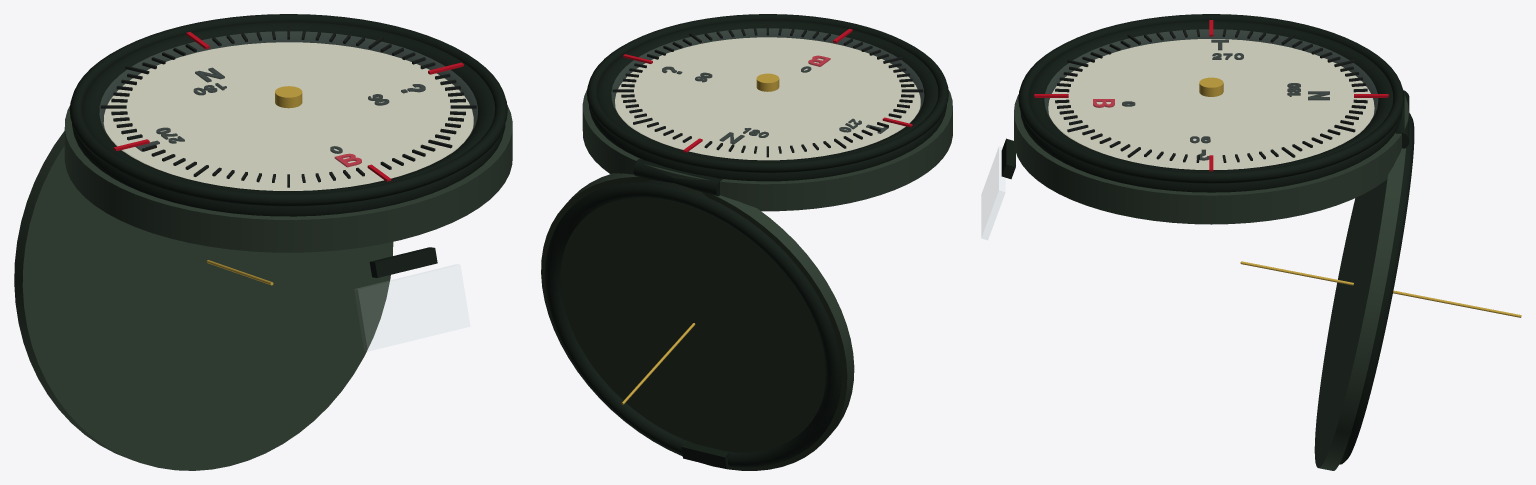
File: 04_gdqp_la_ban.glb
The picture shows the model from 3 angles, left to right: view 1: azimuth 30°, elevation 25°; view 2: azimuth 150°, elevation 25°; view 3: azimuth 270°, elevation 25°; orthographic projection. The views are drawn at different scales.
Visible parts, largest first — view 1: Nap_Kim_Loai, Lop_Kinh, Mat_Dia_Ban, Vo_Duoi, Vanh_Ngoai, Vanh_Xoay, Mat_Kinh_Phong_Dai, Khe_Ngam, Truc_Kim; view 2: Nap_Kim_Loai, Lop_Kinh, Mat_Dia_Ban, Vien_Nap, Vanh_Ngoai, Vo_Duoi, Vanh_Xoay, Truc_Nap, Cua_Ngam; view 3: Lop_Kinh, Mat_Dia_Ban, Vo_Duoi, Vanh_Ngoai, Nap_Kim_Loai, Vanh_Xoay, Vien_Nap, Mat_Kinh_Phong_Dai, Day_Ngam.
Boxes of the visible parts, x1,y1,x2,y2 form: Nap_Kim_Loai: [14, 131, 393, 470]; Lop_Kinh: [100, 32, 477, 190]; Mat_Dia_Ban: [103, 42, 473, 190]; Vo_Duoi: [64, 105, 512, 252]; Vanh_Ngoai: [72, 21, 505, 216]; Vanh_Xoay: [69, 14, 507, 206]; Mat_Kinh_Phong_Dai: [355, 264, 469, 350]; Khe_Ngam: [369, 247, 437, 277]; Truc_Kim: [275, 86, 302, 108]; Nap_Kim_Loai: [541, 173, 854, 470]; Lop_Kinh: [612, 29, 923, 159]; Mat_Dia_Ban: [615, 37, 920, 160]; Vien_Nap: [544, 182, 841, 467]; Vanh_Ngoai: [589, 20, 946, 181]; Vo_Duoi: [582, 89, 952, 211]; Vanh_Xoay: [587, 14, 948, 172]; Truc_Nap: [633, 159, 722, 196]; Cua_Ngam: [681, 441, 729, 468]; Lop_Kinh: [1045, 30, 1377, 169]; Mat_Dia_Ban: [1048, 39, 1374, 169]; Vo_Duoi: [1014, 94, 1408, 224]; Vanh_Ngoai: [1020, 21, 1402, 192]; Nap_Kim_Loai: [1314, 148, 1405, 470]; Vanh_Xoay: [1018, 14, 1404, 183]; Vien_Nap: [1339, 113, 1414, 464]; Mat_Kinh_Phong_Dai: [982, 147, 1004, 239]; Day_Ngam: [1240, 261, 1521, 317].
Size of the model in its own units: 3.1 by 3.21 by 4.24.
